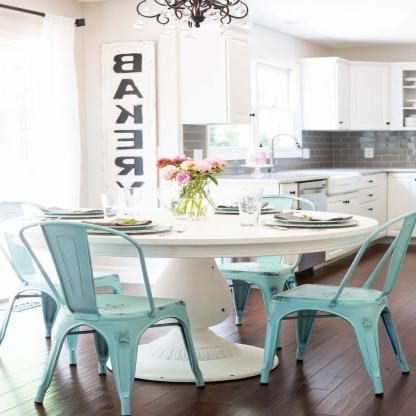chair: (24, 217, 198, 416), (261, 207, 416, 398), (221, 189, 304, 326), (0, 204, 68, 349)
light: (110, 0, 261, 48)
table: (7, 214, 389, 384)
